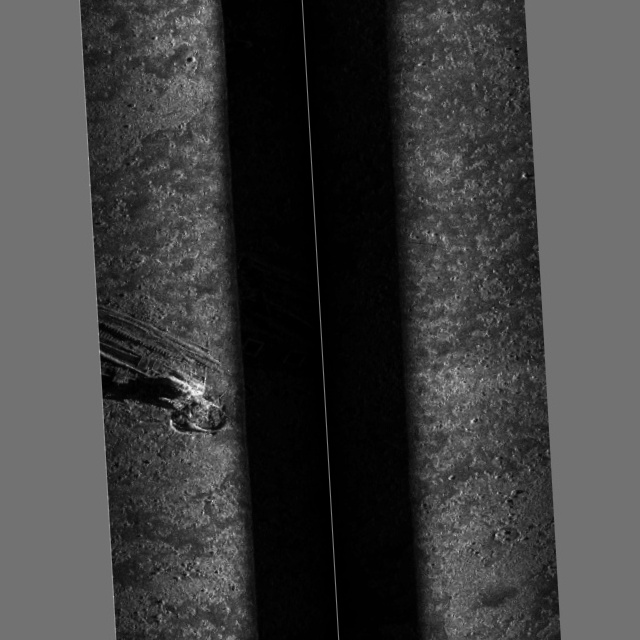Shipwreck: (97, 297, 234, 441)
